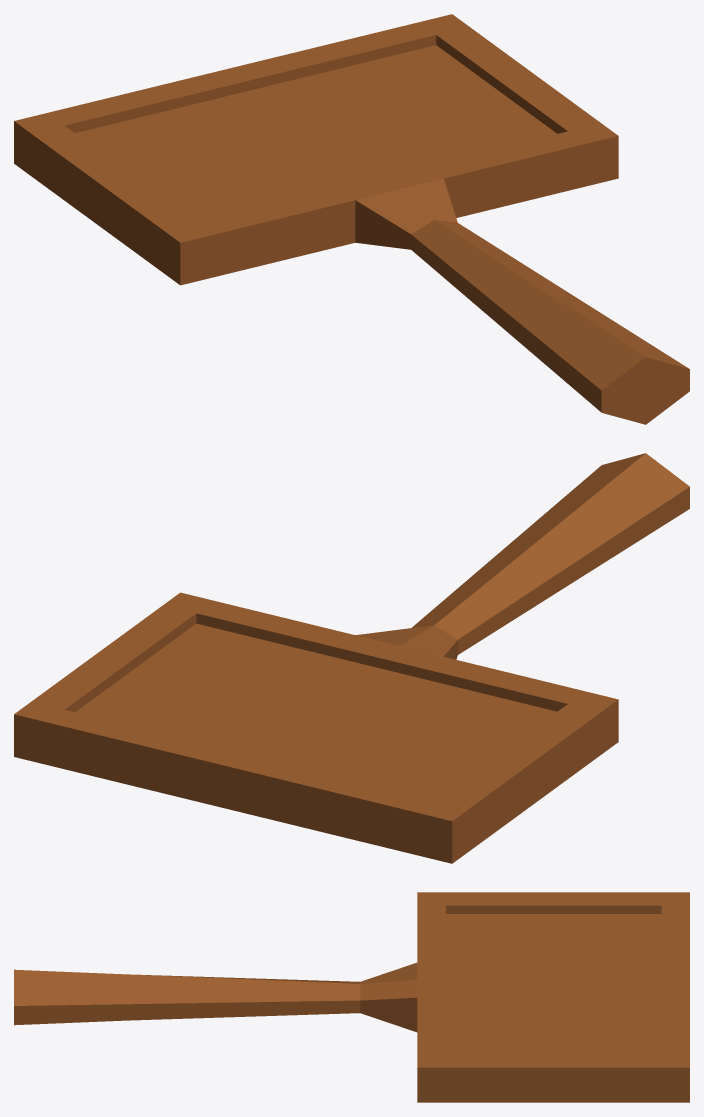
File: Cartel_Tienda_000.fbx
3 views of the same model, one above another, from view 1: azimuth 30°, elevation 25°; view 2: azimuth 150°, elevation 25°; view 3: azimuth 270°, elevation 25° (orthographic). The views are drawn at different scales.
Parts seen in each view (by area): view 1: Cartel_000_Tiendas; view 2: Cartel_000_Tiendas; view 3: Cartel_000_Tiendas.
Boxes of the visible parts, x1,y1,x2,y2 form: Cartel_000_Tiendas: (14, 14, 689, 424); Cartel_000_Tiendas: (14, 453, 689, 863); Cartel_000_Tiendas: (14, 892, 689, 1102).
Size of the model in its own units: 342 by 50.55 by 558.
